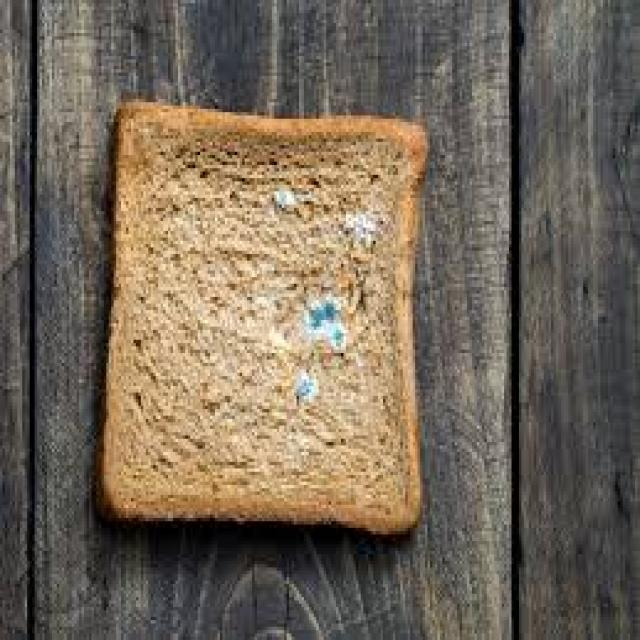organic waste: (94, 95, 427, 538)
